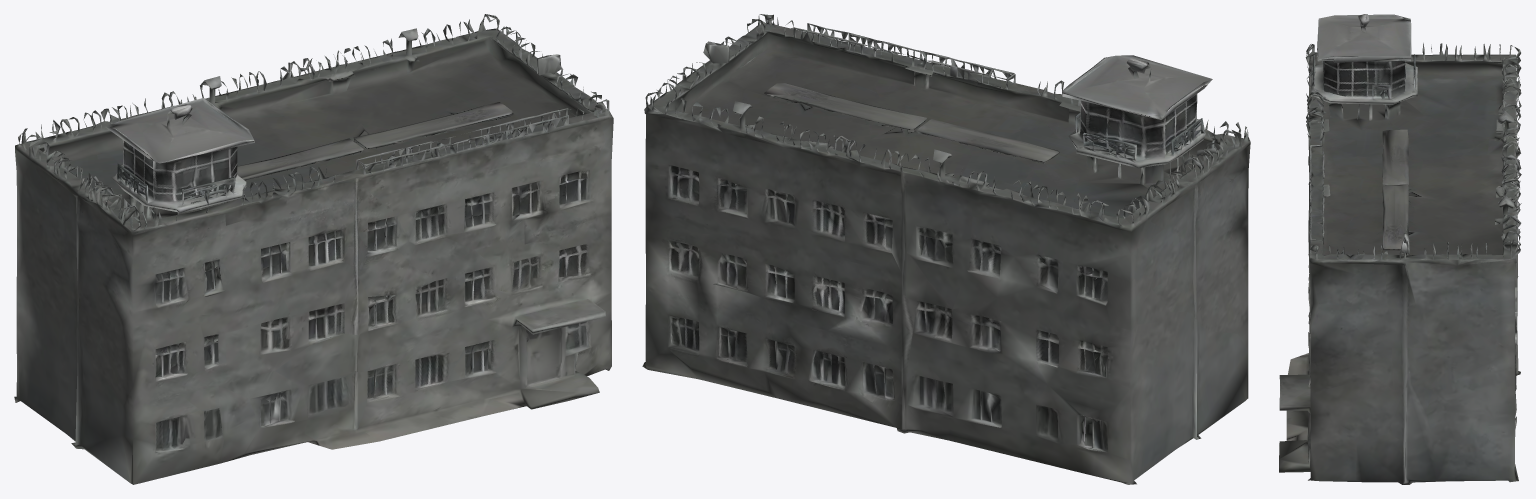
Rendered from jail.glb.
3 views of the same model, side by side, from view 1: azimuth 30°, elevation 25°; view 2: azimuth 150°, elevation 25°; view 3: azimuth 270°, elevation 25° (orthographic). The views are drawn at different scales.
Visible parts, largest first — view 1: tripo_node_e1589e88-6900-4c49-833c-359fada7eb56; view 2: tripo_node_e1589e88-6900-4c49-833c-359fada7eb56; view 3: tripo_node_e1589e88-6900-4c49-833c-359fada7eb56.
Part boxes in pixels (x1,y1,x2,y2): tripo_node_e1589e88-6900-4c49-833c-359fada7eb56: (14,14,613,484); tripo_node_e1589e88-6900-4c49-833c-359fada7eb56: (642,14,1250,484); tripo_node_e1589e88-6900-4c49-833c-359fada7eb56: (1279,14,1521,484).
Size of the model in its own units: 0.9968 by 0.6646 by 0.489.
1 material, 1 textured.
